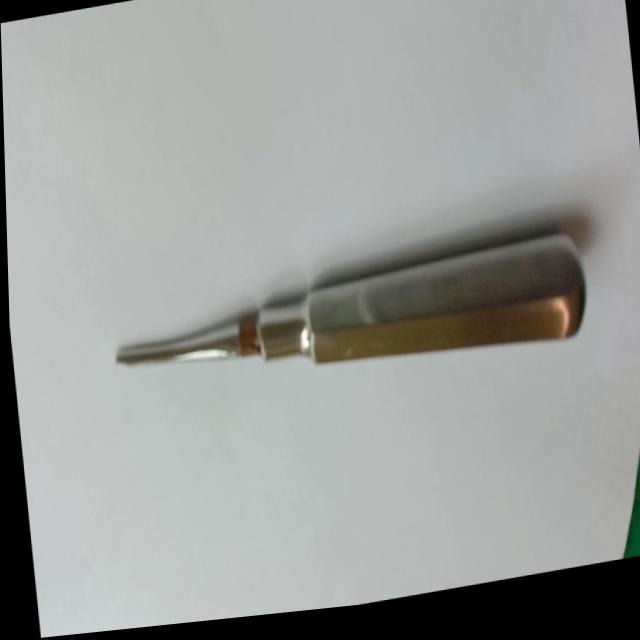Coupland1: (98, 226, 592, 429)
